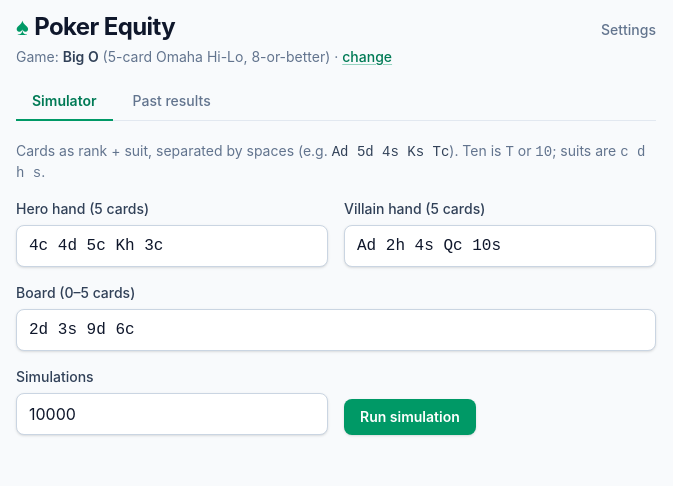
it: rejects duplicate cards across hands and board
The width and height of the screenshot is (673, 486).
Replace the text in the field labelled "Villain hand (5 cards)" with "Ah Ac Kd 4c 10c" at (500,246), box [344,225,656,267]
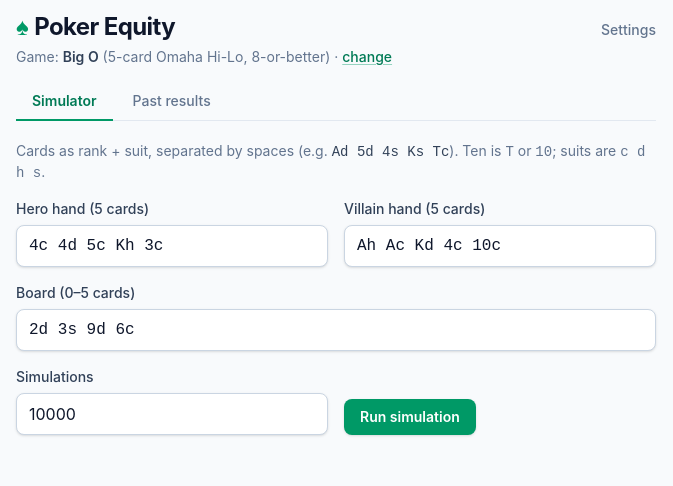
Click the button "Run simulation" at (410,417), box [344,399,476,435]
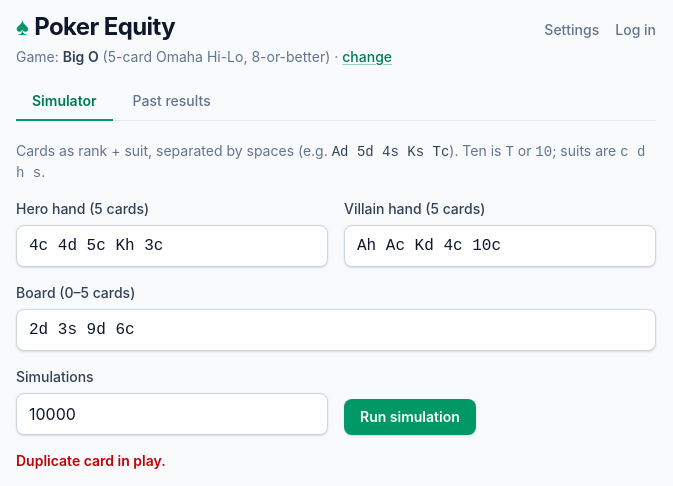
Expected: the text "Duplicate card in play." is shown, [16,452,166,469]
